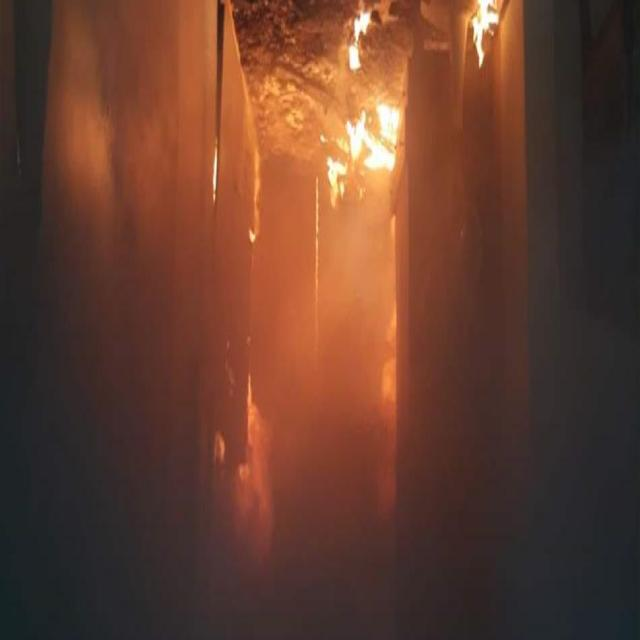fire: (318, 0, 507, 207)
